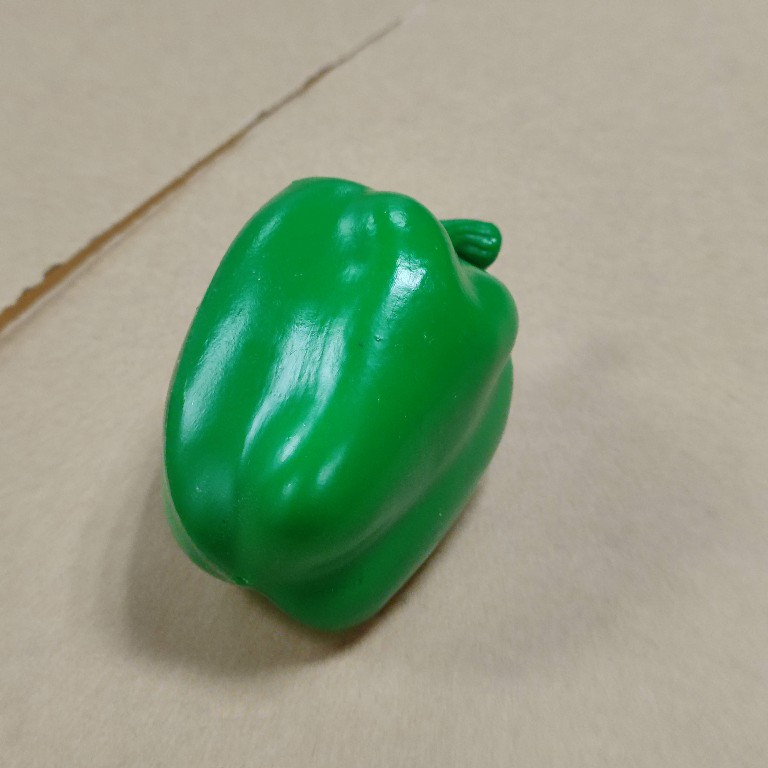fruit_pepper: (157, 173, 524, 640)
